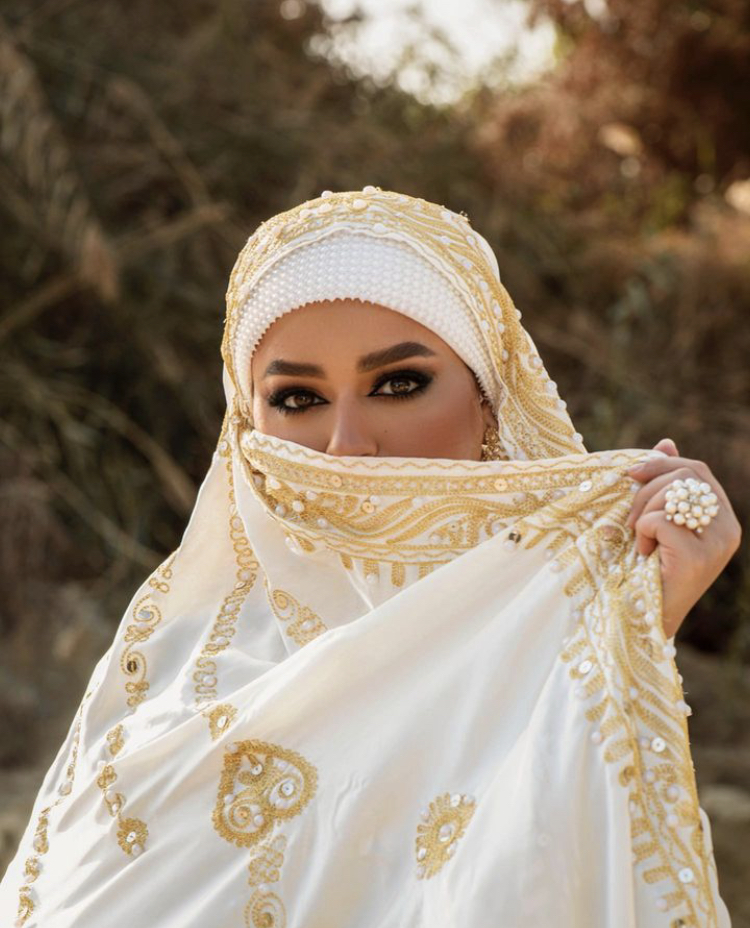Saudi_Founding_Day: (2, 177, 747, 928)
